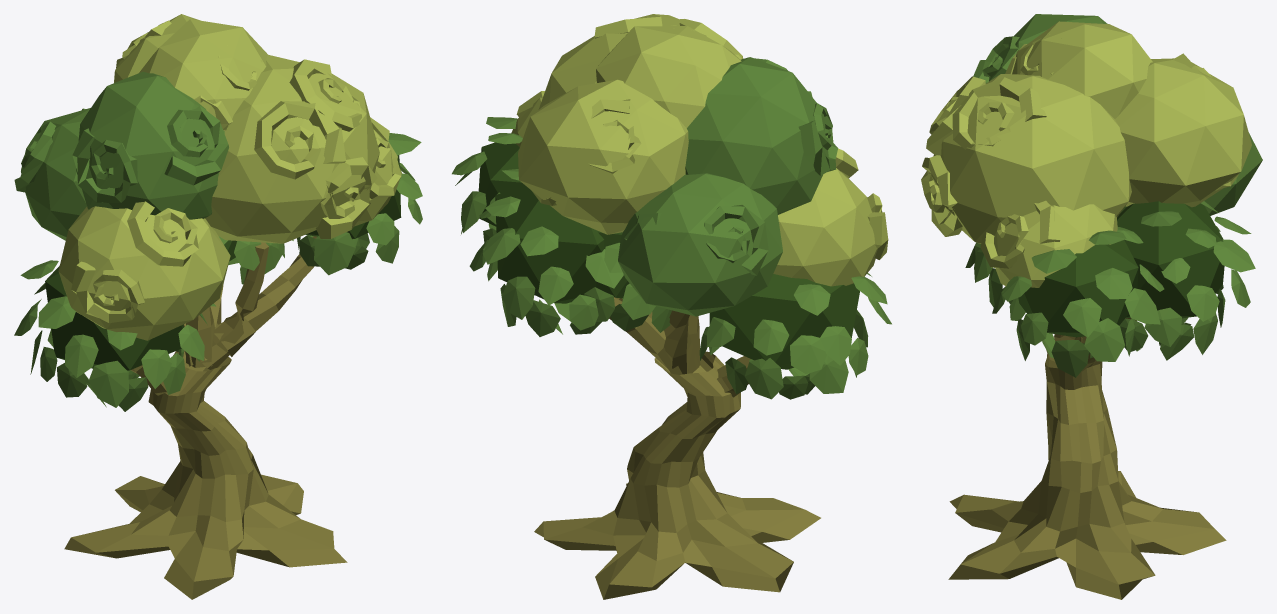
Rendered from tree-standing-charming.glb.
3 renders of one model, left to right at view 1: azimuth 30°, elevation 25°; view 2: azimuth 150°, elevation 25°; view 3: azimuth 270°, elevation 25°, orthographic. The views are drawn at different scales.
Visible parts, largest first — view 1: leaves_light, leaves_dark, trunk, crown_fill; view 2: leaves_dark, leaves_light, trunk, crown_fill; view 3: leaves_light, trunk, leaves_dark, crown_fill.
Boxes of the visible parts, x1,y1,x2,y2 form: leaves_light: (58,14,402,340); leaves_dark: (14,71,422,411); trunk: (64,236,347,599); crown_fill: (45,155,401,370); leaves_dark: (452,57,891,399); leaves_light: (511,14,888,286); trunk: (534,297,820,599); crown_fill: (478,142,859,369); leaves_light: (921,21,1251,287); trunk: (948,318,1226,599); leaves_dark: (965,14,1262,377); crown_fill: (1018,201,1224,337).
Bounding box in the file's own units: 5.44 × 6.52 × 3.93.
